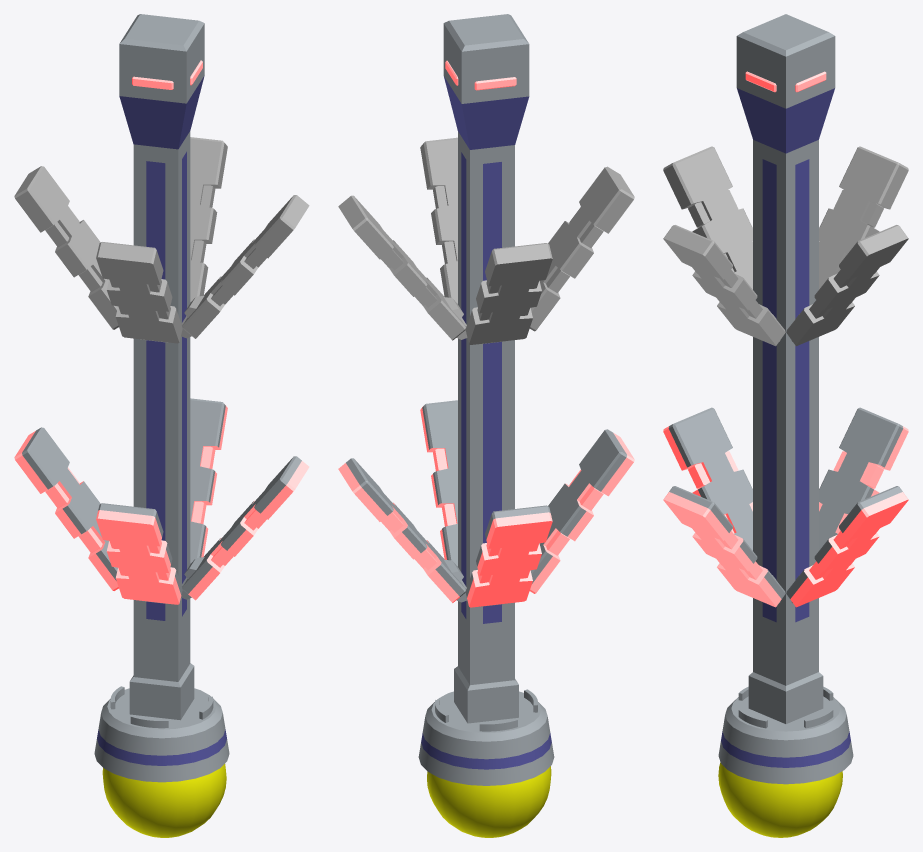
File: Streetlight_DistrictB.fbx
3 renders of one model, left to right at view 1: azimuth 30°, elevation 25°; view 2: azimuth 150°, elevation 25°; view 3: azimuth 270°, elevation 25°, orthographic.
Visible parts, largest first — view 1: Streetlight_DistrictB, lightrail2, lightrail1, g__rocketbase, g__blaster, shielding, glights; view 2: Streetlight_DistrictB, lightrail1, lightrail2, g__rocketbase, g__blaster, shielding, glights; view 3: Streetlight_DistrictB, lightrail2, lightrail1, g__rocketbase, g__blaster, shielding, glights.
Boxes of the visible parts, box(x1,y1,x2,y2) form: Streetlight_DistrictB: box(119, 14, 204, 720); lightrail2: box(14, 137, 309, 343); lightrail1: box(14, 398, 309, 604); g__rocketbase: box(94, 688, 229, 782); g__blaster: box(102, 764, 226, 837); shielding: box(110, 686, 213, 728); glights: box(132, 60, 202, 89); Streetlight_DistrictB: box(443, 14, 529, 723); lightrail1: box(338, 400, 634, 607); lightrail2: box(338, 137, 634, 344); g__rocketbase: box(418, 691, 554, 785); g__blaster: box(427, 766, 551, 837); shielding: box(435, 689, 537, 731); glights: box(445, 60, 516, 90); Streetlight_DistrictB: box(736, 14, 835, 723); lightrail2: box(663, 146, 908, 346); lightrail1: box(663, 407, 908, 607); g__rocketbase: box(718, 696, 853, 784); g__blaster: box(718, 762, 842, 837); shielding: box(738, 686, 833, 728); glights: box(745, 71, 826, 92).
Size of the model in its own units: 2.4 by 8.64 by 2.4.
